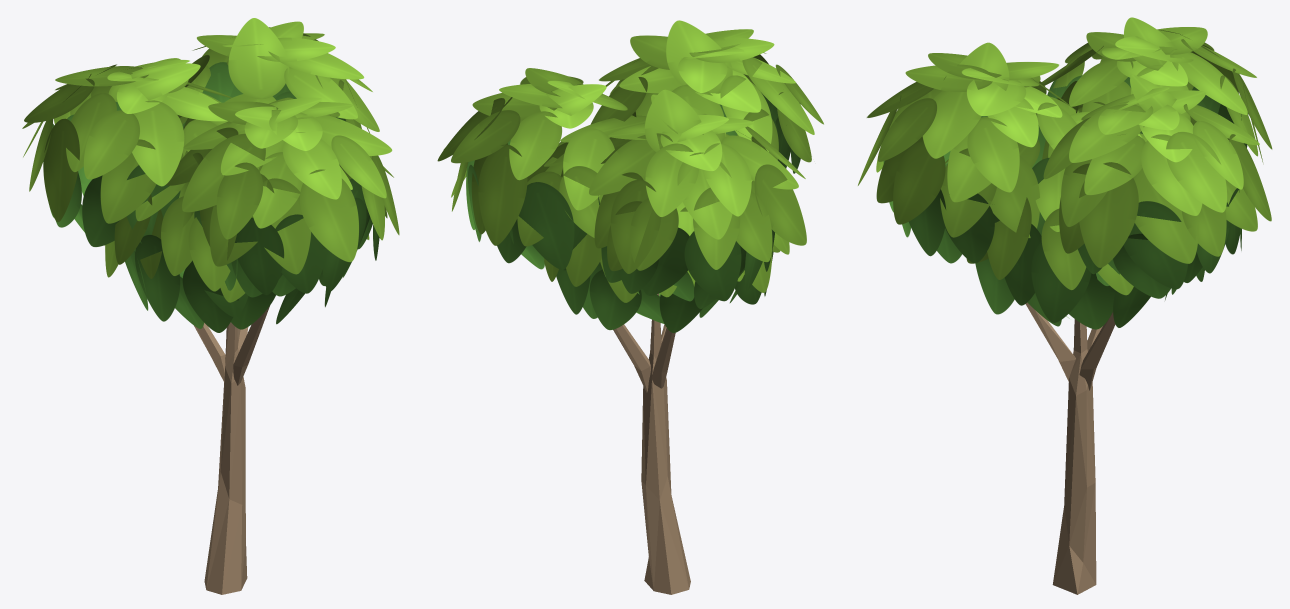
File: tree_round_lod1.glb
3 views of the same model, side by side, from view 1: azimuth 30°, elevation 25°; view 2: azimuth 150°, elevation 25°; view 3: azimuth 270°, elevation 25° (orthographic). The views are drawn at different scales.
Parts seen in each view (by area): view 1: foliage, trunk; view 2: foliage, trunk; view 3: foliage, trunk.
Boxes of the visible parts, left/top/right/bottom form: foliage: left=22, top=18, right=399, bottom=332; trunk: left=194, top=306, right=269, bottom=594; foliage: left=437, top=20, right=823, bottom=332; trunk: left=613, top=293, right=690, bottom=594; foliage: left=858, top=17, right=1272, bottom=329; trunk: left=1025, top=302, right=1115, bottom=594.
Size of the model in its own units: 4.19 by 6.18 by 4.4.
3 materials, 2 textured.
